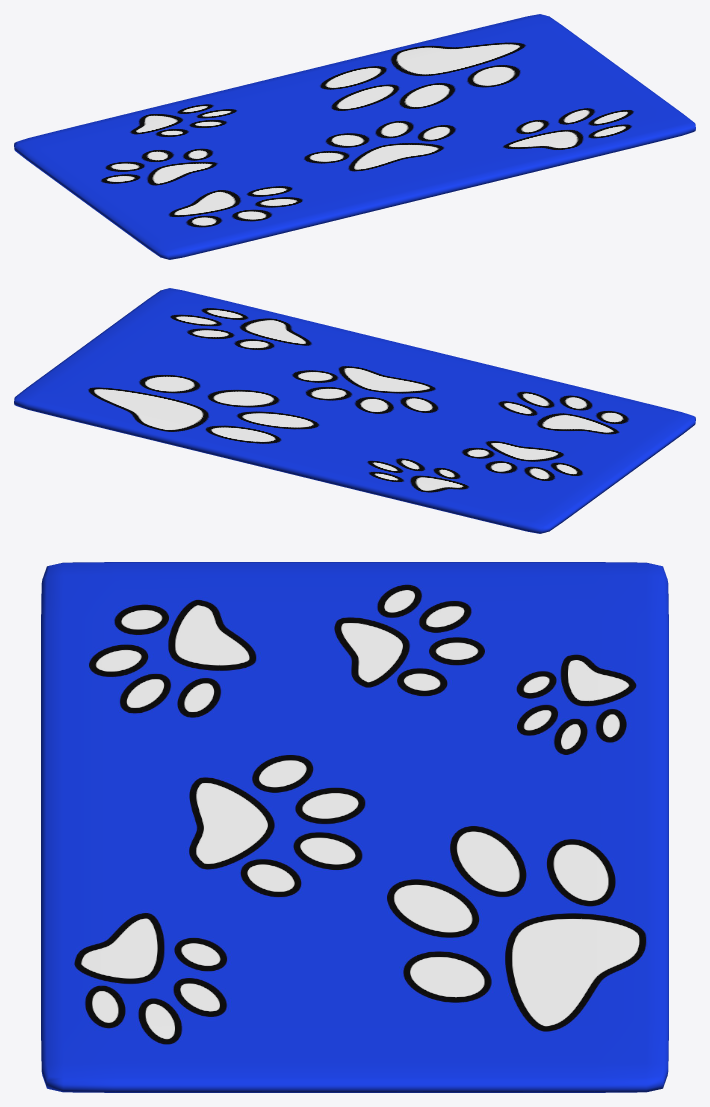
File: KS_Permadani.fbx
3 renders of one model, top to bottom at view 1: azimuth 30°, elevation 25°; view 2: azimuth 150°, elevation 25°; view 3: azimuth 270°, elevation 25°, orthographic. The views are drawn at different scales.
Parts seen in each view (by area): view 1: KS_Permadani; view 2: KS_Permadani; view 3: KS_Permadani.
Part boxes in pixels (bbox=[...]): KS_Permadani: bbox=[14, 14, 695, 259]; KS_Permadani: bbox=[14, 288, 695, 533]; KS_Permadani: bbox=[41, 562, 668, 1092].
Size of the model in its own units: 395 by 6 by 200.
